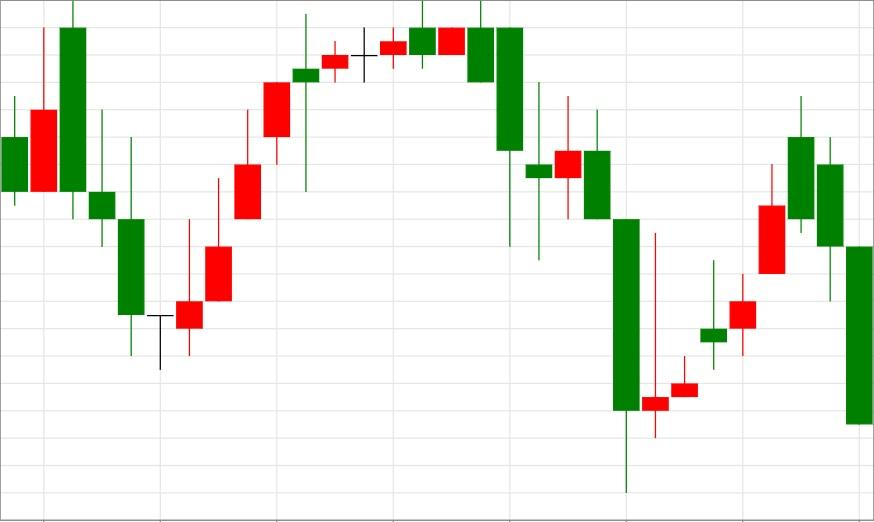three_white_soldiers_rise: (59, 0, 262, 370)
